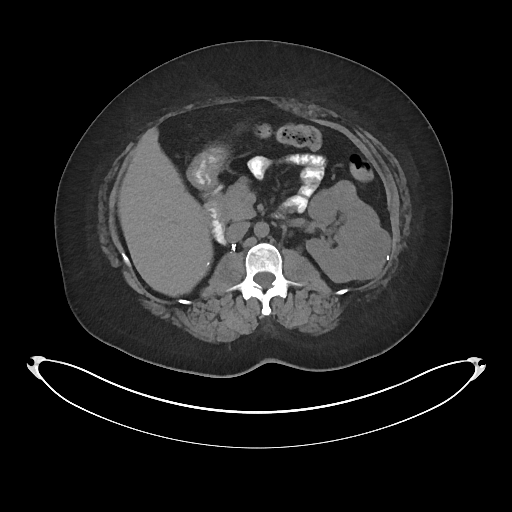Lesion: (342, 216, 393, 280)
